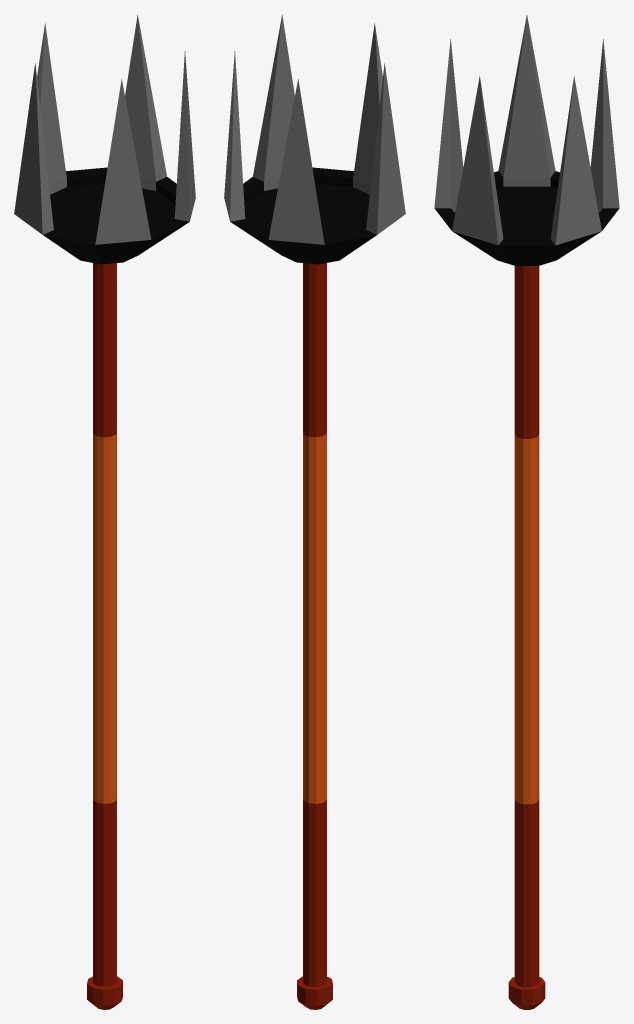
File: Sword_Type4.fbx
The picture shows the model from 3 angles, left to right: view 1: azimuth 30°, elevation 25°; view 2: azimuth 150°, elevation 25°; view 3: azimuth 270°, elevation 25°; orthographic projection.
Visible parts, largest first — view 1: Cylinder; view 2: Cylinder; view 3: Cylinder.
Part boxes in pixels (box(x1,y1,x2,y2)): Cylinder: box(14, 15, 195, 1009); Cylinder: box(224, 15, 405, 1009); Cylinder: box(434, 15, 619, 1009).
Size of the model in its own units: 199 by 1195 by 209.
